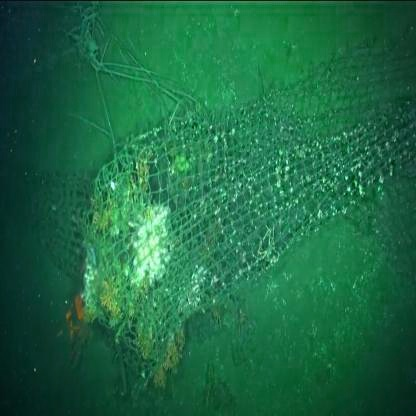net: (51, 124, 394, 316)
